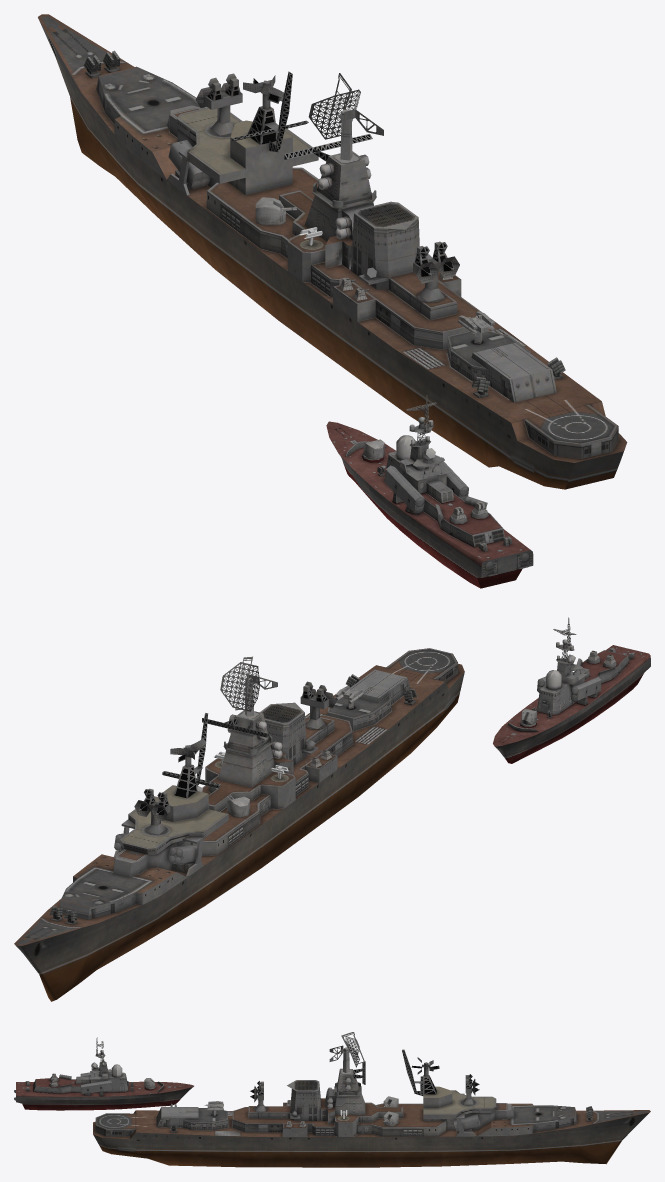
File: cruiser.obj
3 views of the same model, one above another, from view 1: azimuth 30°, elevation 25°; view 2: azimuth 150°, elevation 25°; view 3: azimuth 270°, elevation 25° (orthographic). The views are drawn at different scales.
Visible parts, largest first — view 1: DrawCall_0, DrawCall21, DrawCall_1; view 2: DrawCall_0, DrawCall21, DrawCall_1; view 3: DrawCall_0, DrawCall21, DrawCall_1.
Boxes of the visible parts, bbox=[...] form: DrawCall_0: bbox=[38, 14, 627, 489]; DrawCall21: bbox=[326, 395, 533, 588]; DrawCall_1: bbox=[308, 73, 383, 160]; DrawCall_0: bbox=[14, 648, 464, 1001]; DrawCall21: bbox=[493, 617, 650, 763]; DrawCall_1: bbox=[220, 656, 277, 716]; DrawCall_0: bbox=[93, 1049, 650, 1167]; DrawCall21: bbox=[14, 1037, 193, 1110]; DrawCall_1: bbox=[329, 1032, 364, 1072].
Size of the model in its own units: 44.82 by 45.48 by 198.
8 materials, 7 textured.
